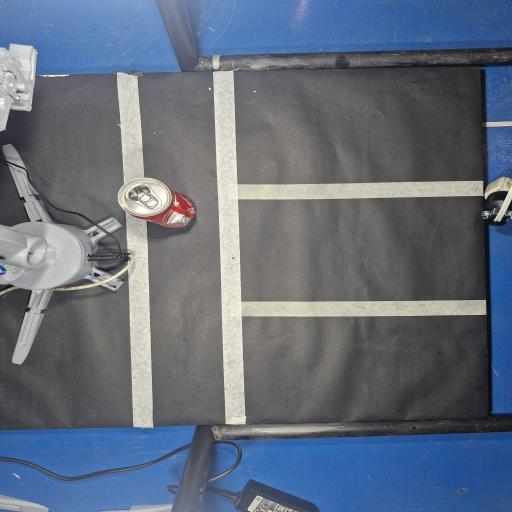lata_defectuoso: (118, 178, 195, 227)
